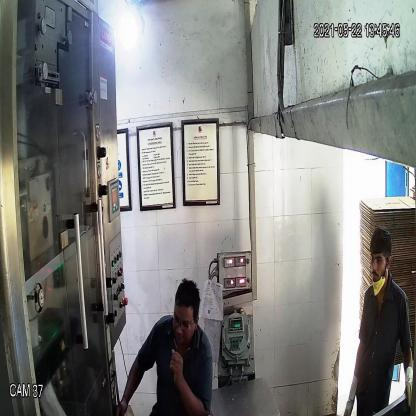goggles: (170, 312, 199, 334)
no_goggles: (369, 251, 391, 268)
